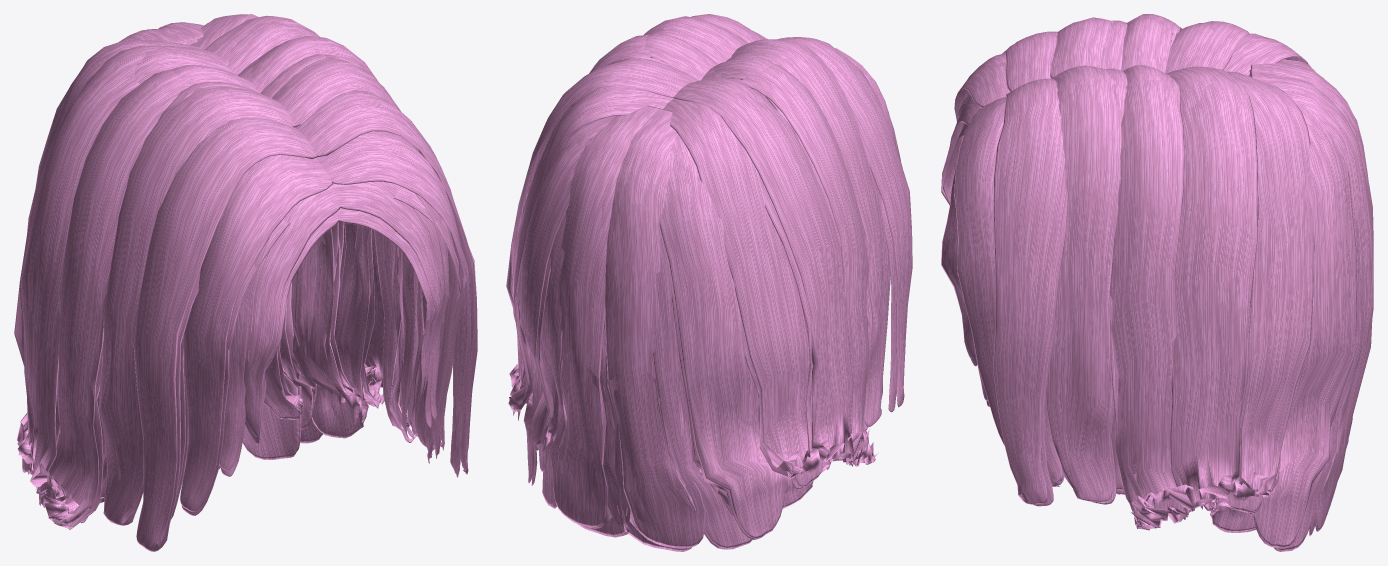
File: mh_learning_anime_hair.glb
The picture shows the model from 3 angles, left to right: view 1: azimuth 30°, elevation 25°; view 2: azimuth 150°, elevation 25°; view 3: azimuth 270°, elevation 25°; orthographic projection. The views are drawn at different scales.
Parts seen in each view (by area): view 1: mh_learning_anime_hair; view 2: mh_learning_anime_hair; view 3: mh_learning_anime_hair.
Part boxes in pixels (bbox=[...]): mh_learning_anime_hair: bbox=[14, 14, 477, 551]; mh_learning_anime_hair: bbox=[506, 14, 912, 551]; mh_learning_anime_hair: bbox=[941, 14, 1373, 551].
Bounding box in the file's own units: 0.2493 × 0.3054 × 0.2578.
Materials: 1 (1 with a texture image).
